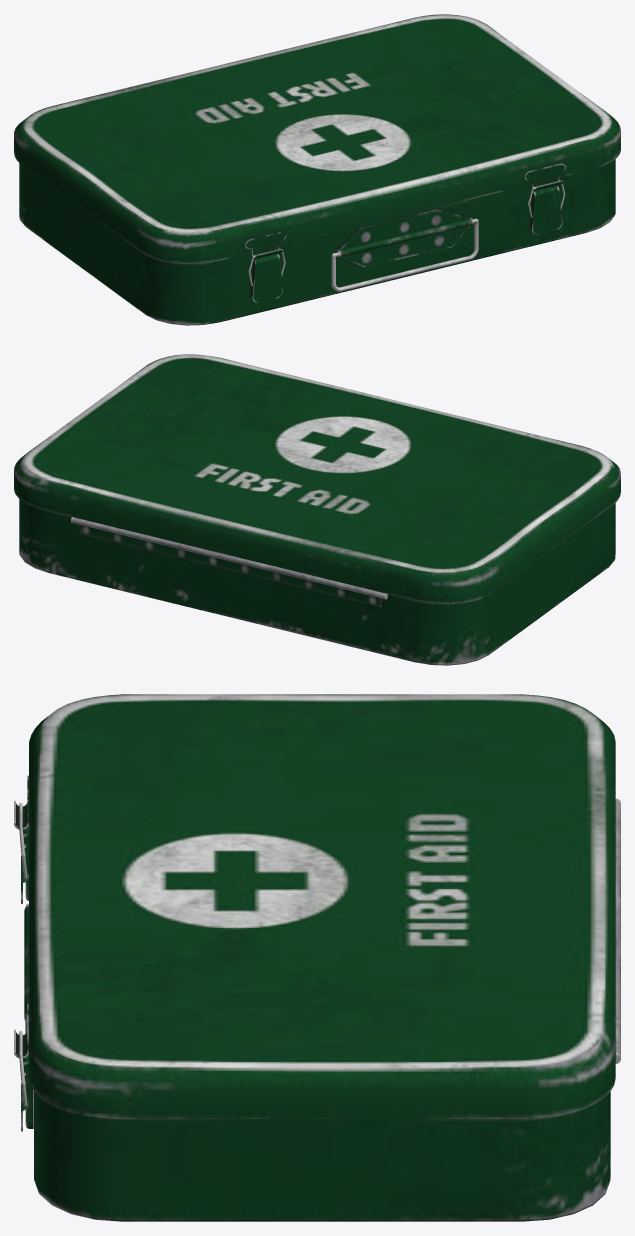
Rendered from medical_box.glb.
3 views of the same model, one above another, from view 1: azimuth 30°, elevation 25°; view 2: azimuth 150°, elevation 25°; view 3: azimuth 270°, elevation 25° (orthographic). The views are drawn at different scales.
Parts seen in each view (by area): view 1: medical_box_lid, medical_box, medical_box_latch, medical_box_handle; view 2: medical_box_lid, medical_box; view 3: medical_box_lid, medical_box.
Boxes of the visible parts, left/top/right/bottom form: medical_box_lid: left=14, top=14, right=620, bottom=263; medical_box: left=19, top=159, right=615, bottom=325; medical_box_latch: left=251, top=185, right=562, bottom=302; medical_box_handle: left=331, top=218, right=478, bottom=291; medical_box_lid: left=14, top=354, right=620, bottom=603; medical_box: left=19, top=499, right=615, bottom=665; medical_box_lid: left=14, top=694, right=615, bottom=1118; medical_box: left=24, top=798, right=620, bottom=1221.
Size of the model in its own units: 0.5255 by 0.0975 by 0.3502.
1 material, 1 textured.
